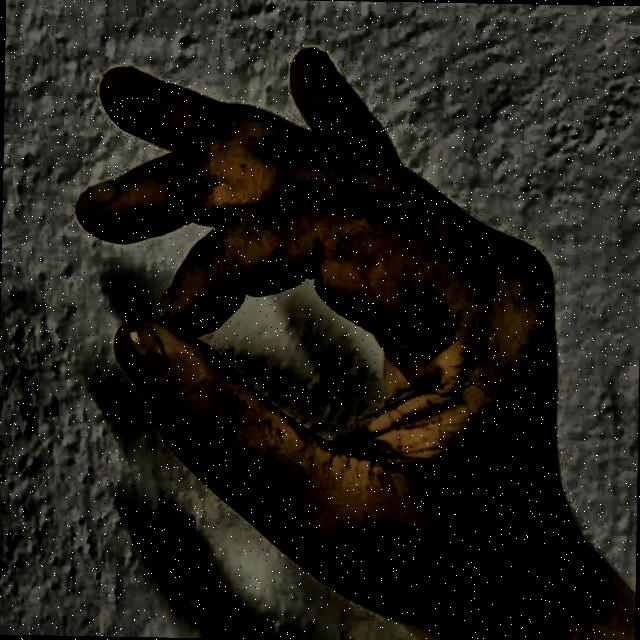Yo: (52, 25, 604, 630)
